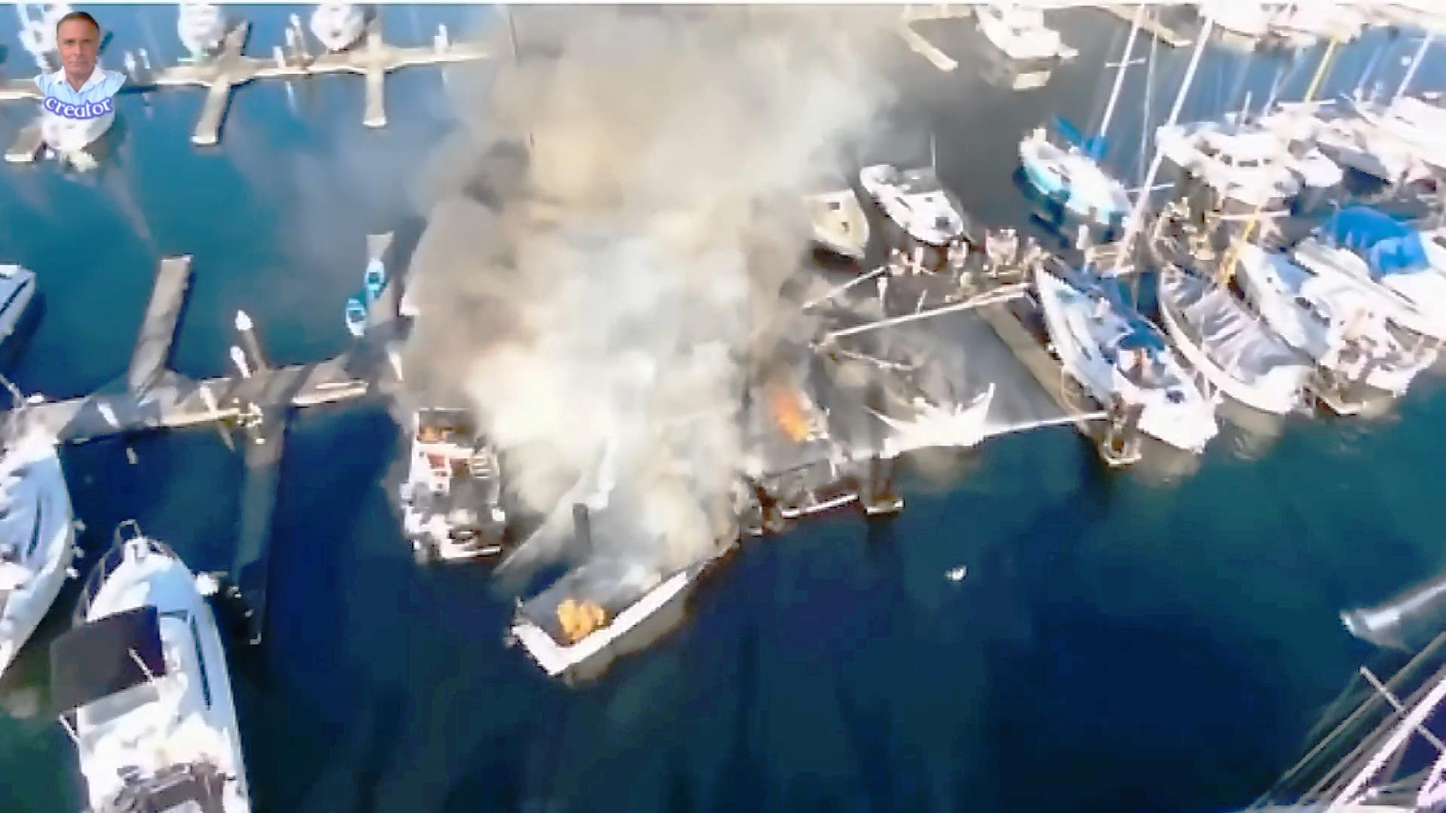smoke: (508, 23, 733, 557), (443, 115, 764, 378), (507, 0, 895, 163)
